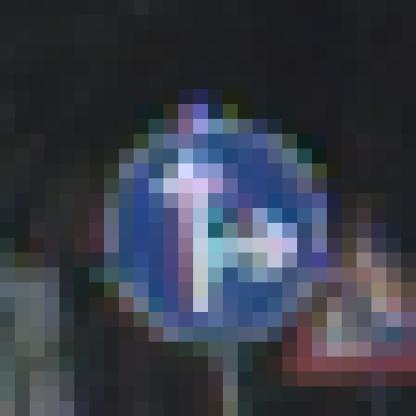Straight or Right: (90, 90, 343, 343)
